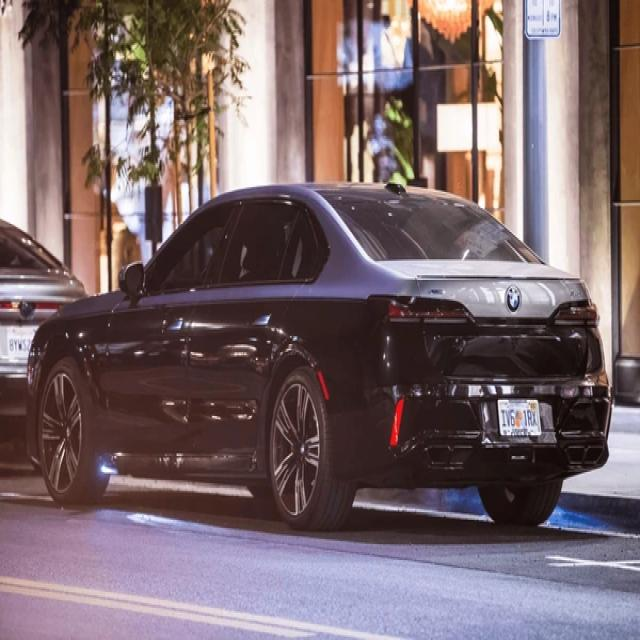bmw: (504, 288, 524, 310)
